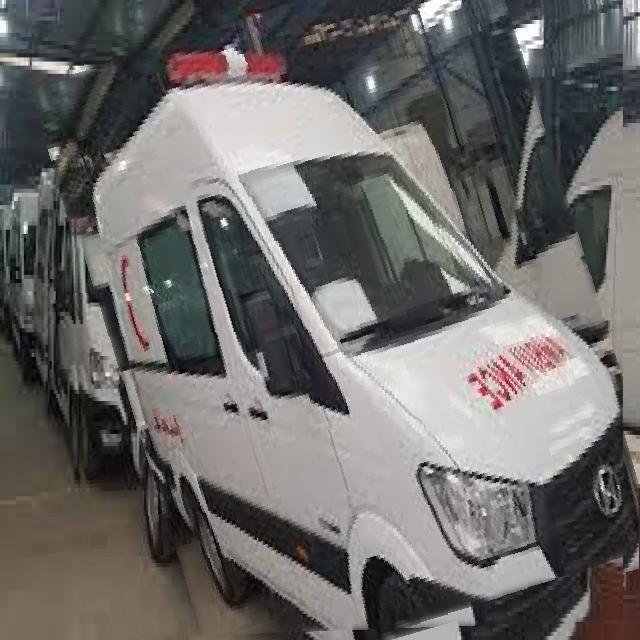ambulance: (69, 0, 623, 640)
